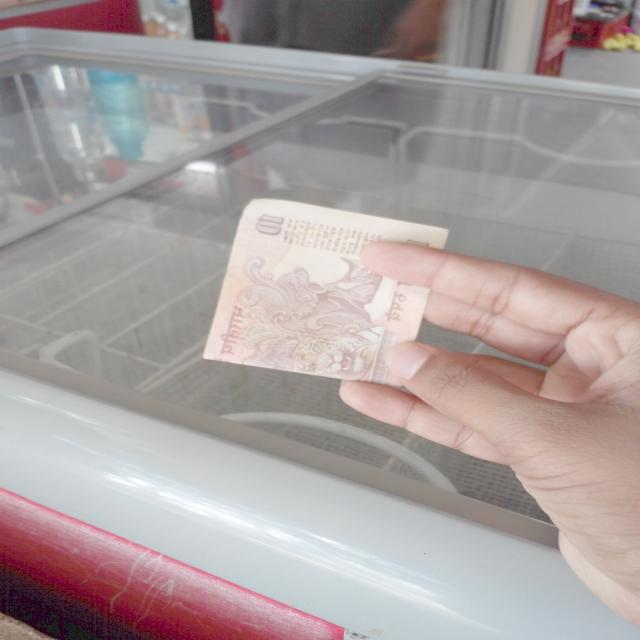10rs: (204, 200, 446, 383)
